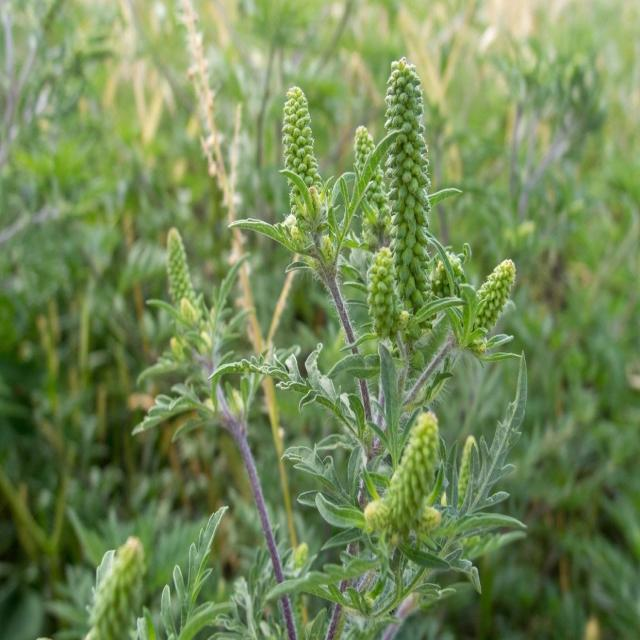ambrosia: (347, 24, 492, 330), (338, 376, 500, 576), (258, 63, 346, 298), (148, 229, 255, 412), (54, 521, 214, 630)
